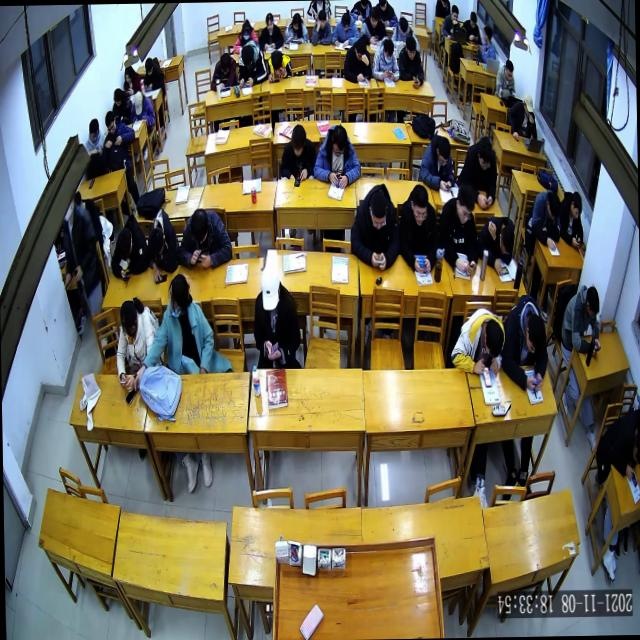bow: (176, 206, 233, 272), (144, 204, 181, 285), (109, 210, 150, 282), (529, 185, 563, 252), (264, 48, 292, 84), (232, 20, 258, 54)
down: (260, 262, 282, 314), (524, 312, 547, 358), (482, 318, 504, 361), (409, 182, 429, 228), (368, 189, 388, 234), (455, 184, 476, 226), (118, 298, 138, 340), (189, 207, 209, 246), (115, 227, 134, 263), (290, 123, 308, 159), (476, 136, 493, 173), (146, 225, 164, 259), (331, 124, 348, 158), (584, 284, 600, 320), (498, 224, 514, 257), (435, 136, 451, 168), (546, 192, 561, 222), (569, 190, 583, 222), (104, 109, 117, 137), (240, 44, 254, 70), (382, 37, 395, 65), (522, 94, 536, 120), (353, 38, 368, 62), (404, 36, 418, 61), (219, 52, 232, 78), (88, 118, 100, 146), (132, 90, 144, 116), (270, 48, 283, 72), (398, 15, 410, 38), (368, 6, 380, 29), (240, 20, 252, 42), (340, 12, 352, 34), (504, 58, 514, 82), (144, 58, 155, 78), (292, 12, 302, 34), (112, 87, 122, 108), (450, 3, 459, 26), (123, 66, 133, 86), (469, 10, 478, 30)
lookup: (317, 8, 328, 30), (265, 12, 275, 34)
sit: (140, 272, 221, 376), (252, 261, 302, 370), (500, 292, 550, 394), (348, 180, 401, 274), (114, 296, 160, 392), (450, 305, 506, 376), (438, 184, 480, 278), (398, 180, 438, 276), (593, 406, 640, 484), (558, 282, 604, 356), (312, 122, 362, 190), (457, 134, 498, 210), (416, 131, 456, 194), (278, 121, 318, 183), (477, 216, 517, 278), (99, 108, 136, 172), (235, 38, 268, 88), (558, 188, 584, 250), (397, 34, 425, 90), (506, 94, 538, 143), (342, 36, 372, 86), (372, 34, 401, 84), (83, 118, 107, 178), (330, 8, 360, 48), (209, 51, 237, 92), (359, 5, 386, 46), (130, 88, 156, 126), (258, 12, 284, 50), (494, 58, 516, 101), (283, 10, 309, 45), (310, 8, 332, 48), (142, 56, 166, 92), (110, 86, 132, 125), (475, 24, 496, 64), (391, 15, 415, 48), (440, 3, 460, 42), (461, 10, 482, 44), (122, 62, 142, 96)
